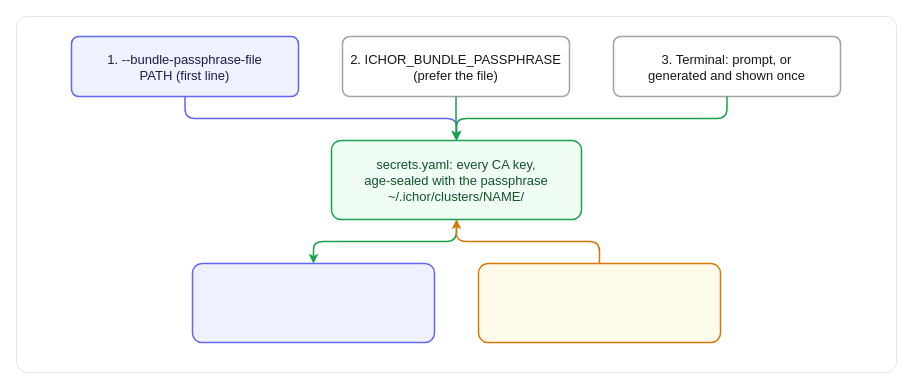
The diagram is 913 pixels wide and 389 high, and some of its shapes have lost their labels. Each missing label, with the centre of its shape:
"ichor secrets encrypt NAME seals an older plaintext file" belongs at point (599, 302).
"restore cluster, adopt, create credentials --bundle, export bundle" belongs at point (313, 302).
